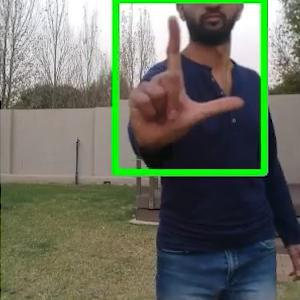land_hand: (125, 11, 248, 145)
